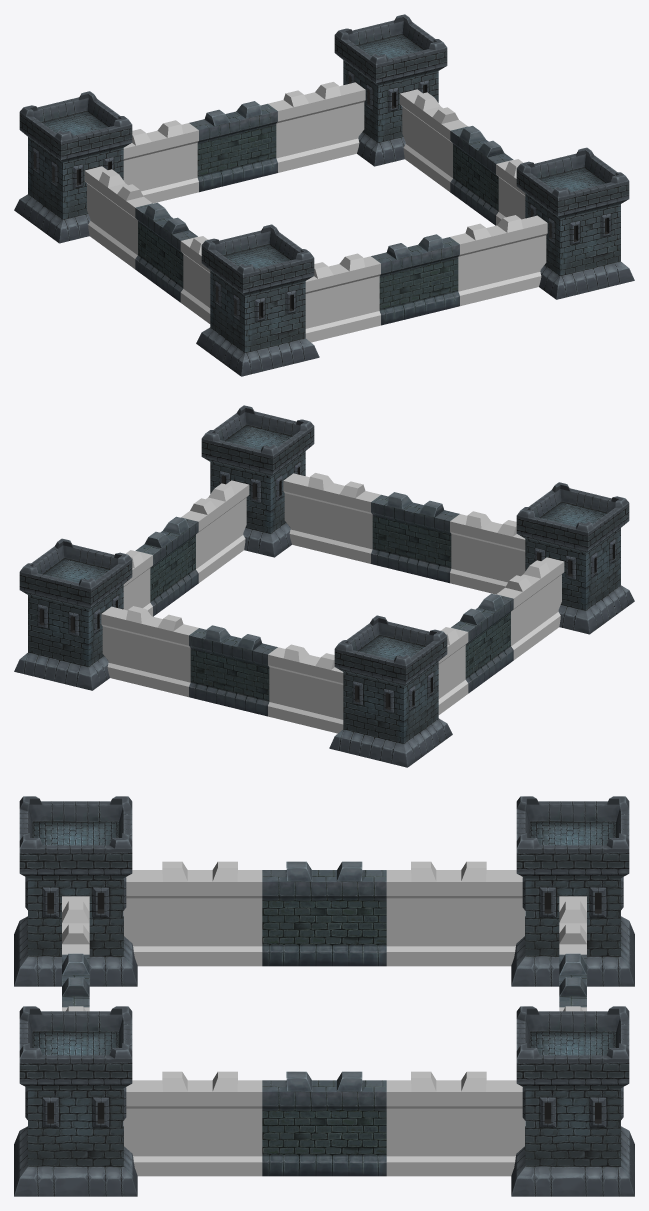
File: lowpoly towers for sale.fbx
The picture shows the model from 3 angles, top to bottom: view 1: azimuth 30°, elevation 25°; view 2: azimuth 150°, elevation 25°; view 3: azimuth 270°, elevation 25°; orthographic projection. The views are drawn at different scales.
Visible parts, largest first — view 1: башня2.018, башня2.017, башня2.016, башня2.015, Plane.416, Plane.413, Plane.414, Plane.034, Plane.415, Plane.412, Plane.419, Plane.422 (+4 smaller); view 2: башня2.016, башня2.015, башня2.018, башня2.017, Plane.413, Plane.416, Plane.034, Plane.414, Plane.412, Plane.415, Plane.418, Plane.421 (+4 smaller); view 3: башня2.015, башня2.017, башня2.016, башня2.018, Plane.418, Plane.419, Plane.421, Plane.422, Plane.417, Plane.420, Plane.412, Plane.415 (+2 smaller).
Boxes of the visible parts, x1=… form: башня2.018: x1=196, y1=224, x2=319, y2=376; башня2.017: x1=516, y1=147, x2=634, y2=299; башня2.016: x1=14, y1=91, x2=132, y2=243; башня2.015: x1=334, y1=14, x2=447, y2=166; Plane.416: x1=450, y1=215, x2=547, y2=306; Plane.413: x1=268, y1=82, x2=365, y2=172; Plane.414: x1=371, y1=234, x2=459, y2=325; Plane.034: x1=189, y1=101, x2=277, y2=192; Plane.415: x1=305, y1=253, x2=380, y2=342; Plane.412: x1=123, y1=120, x2=198, y2=203; Plane.419: x1=84, y1=166, x2=152, y2=269; Plane.422: x1=399, y1=89, x2=467, y2=191; башня2.016: x1=329, y1=615, x2=452, y2=767; башня2.015: x1=14, y1=538, x2=132, y2=690; башня2.018: x1=516, y1=482, x2=634, y2=634; башня2.017: x1=201, y1=405, x2=314, y2=557; Plane.413: x1=101, y1=606, x2=198, y2=697; Plane.416: x1=283, y1=473, x2=380, y2=563; Plane.034: x1=189, y1=625, x2=277, y2=716; Plane.414: x1=371, y1=492, x2=459, y2=583; Plane.412: x1=268, y1=644, x2=343, y2=733; Plane.415: x1=450, y1=511, x2=525, y2=594; Plane.418: x1=496, y1=557, x2=564, y2=660; Plane.421: x1=181, y1=480, x2=249, y2=582; башня2.015: x1=511, y1=1006, x2=634, y2=1196; башня2.017: x1=14, y1=1006, x2=137, y2=1196; башня2.016: x1=511, y1=796, x2=634, y2=986; башня2.018: x1=14, y1=796, x2=137, y2=986; Plane.418: x1=124, y1=861, x2=262, y2=966; Plane.419: x1=386, y1=861, x2=524, y2=966; Plane.421: x1=124, y1=1071, x2=262, y2=1176; Plane.422: x1=386, y1=1071, x2=524, y2=1176; Plane.417: x1=262, y1=861, x2=386, y2=966; Plane.420: x1=262, y1=1071, x2=386, y2=1176; Plane.412: x1=559, y1=896, x2=586, y2=954; Plane.415: x1=62, y1=896, x2=89, y2=954.
Size of the model in its own units: 999 by 252 by 999.
